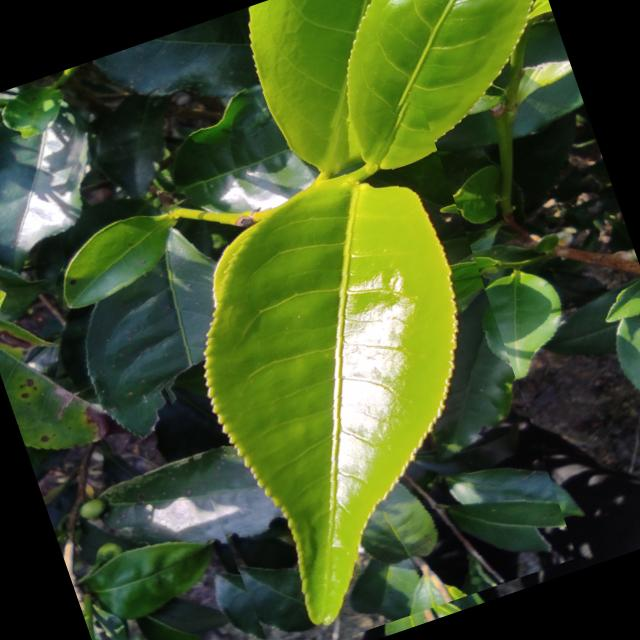Category B(2-4 days): (90, 91, 577, 640)
